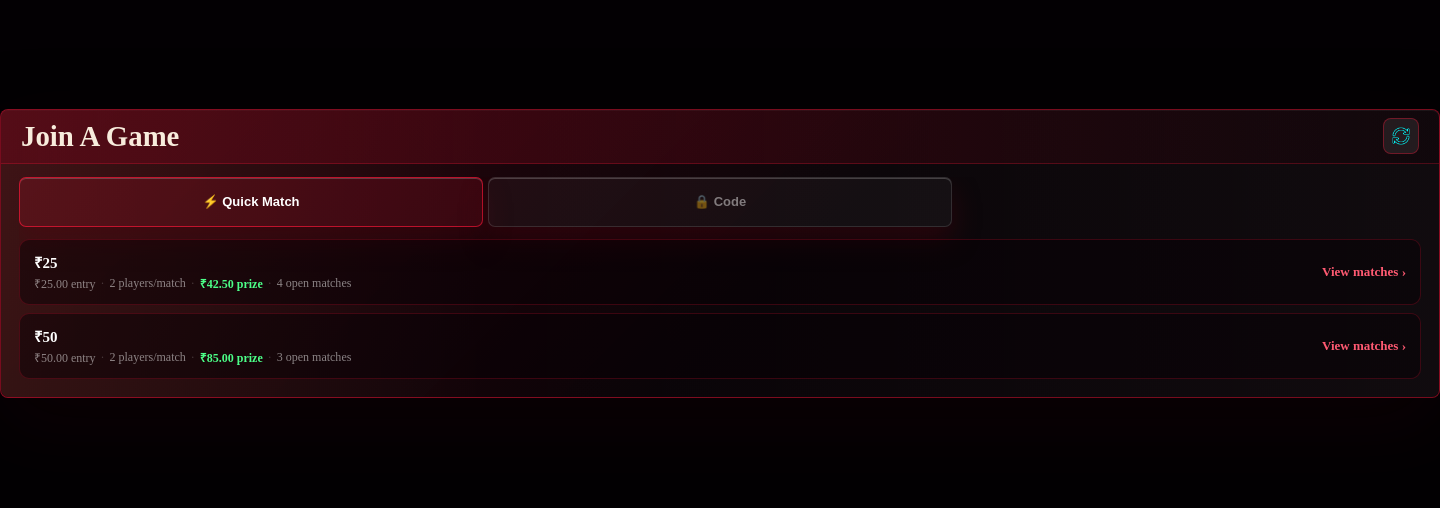
Test case: Quick Match list keeps every match after a join › shows only the chosen fee, then keeps all 4 matches (1/2, 0/2, 0/2, 0/2) after joining Match #1
// money options only — no individual matches yet.
Click the text "₹25".
click(46, 262)  # box [34,254,58,270]
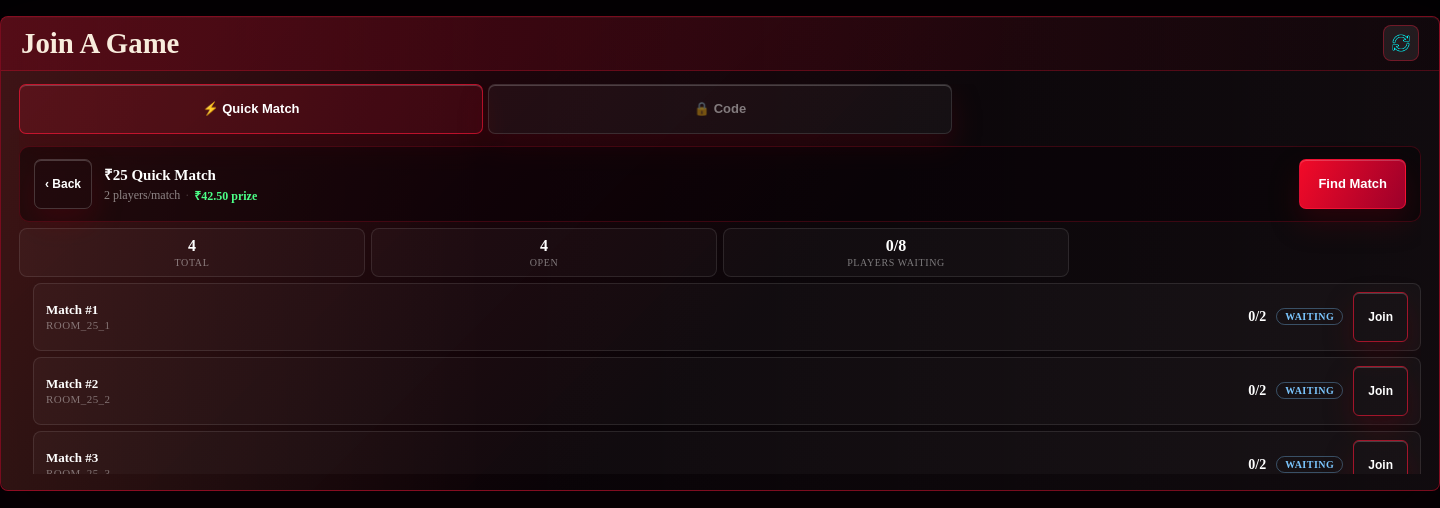
Expected: the text "₹25 Quick Match" is shown, [104,166,216,182]
Expected: the text "0/2" is shown 4 times
// Join Match #1.
Click the button "Join" in the row of "ROOM_25_1".
click(1381, 316)  # box [1353,292,1408,342]
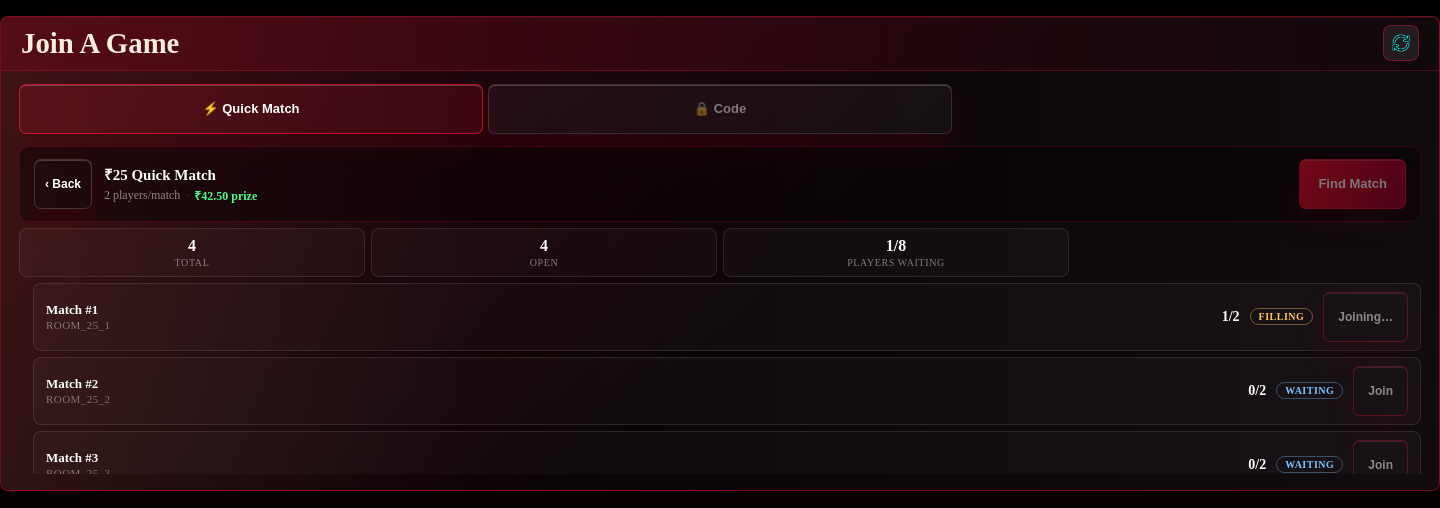
Expected: the text "0/2" is shown 3 times
Expected: the text "ROOM_25_1" is shown, [46,319,110,331]
Expected: the text "1/2" is shown, [1222,308,1240,324]
